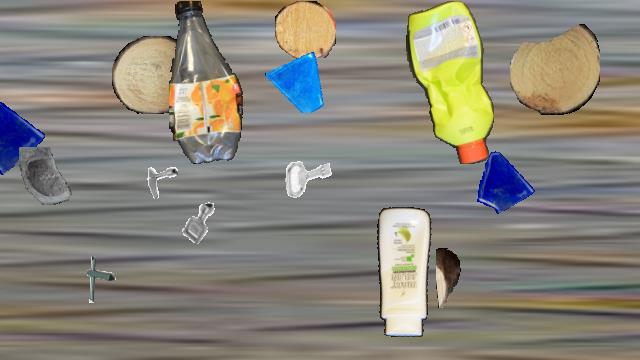glass: (13, 147, 81, 215), (471, 148, 537, 214), (0, 85, 47, 175), (265, 50, 327, 112)
metal: (277, 148, 337, 208), (171, 195, 227, 251), (72, 253, 124, 305), (136, 156, 178, 198)
plastic: (405, 1, 495, 163), (169, 1, 245, 163), (370, 207, 434, 337)
wood: (510, 23, 600, 115), (112, 36, 194, 114), (275, 1, 335, 59), (436, 248, 460, 308)
